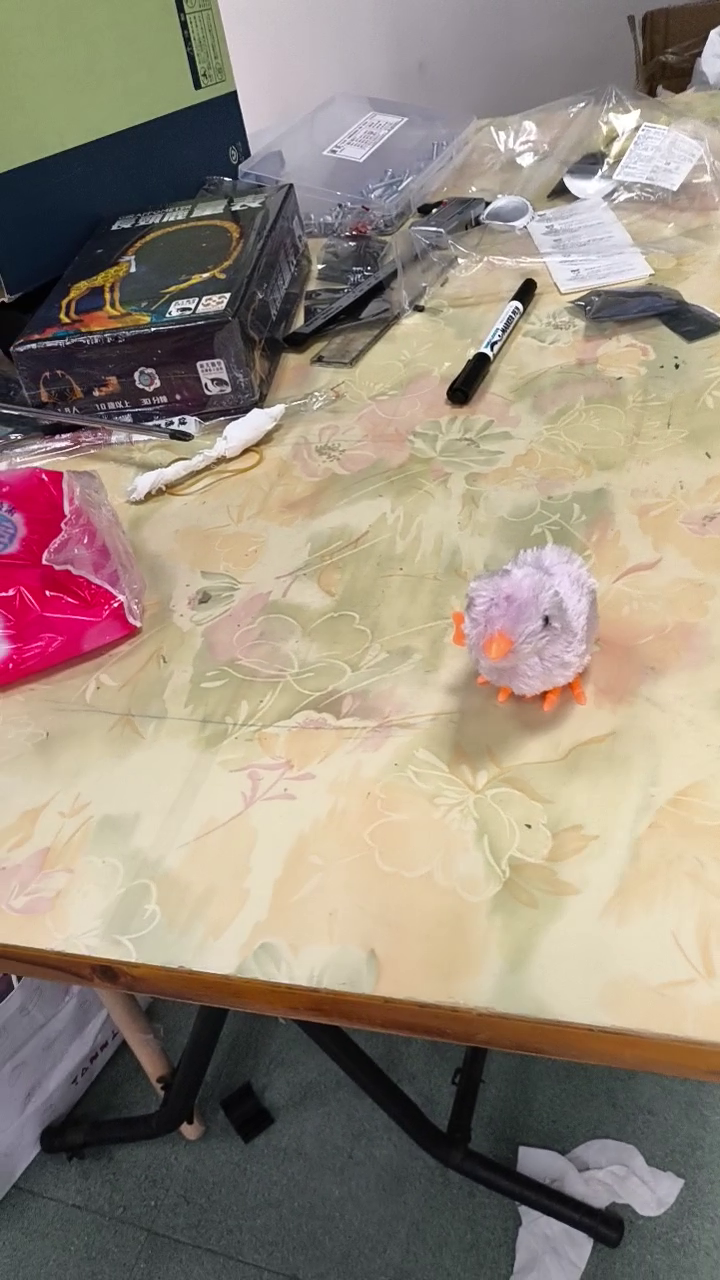pink chicken: (450, 537, 601, 719)
